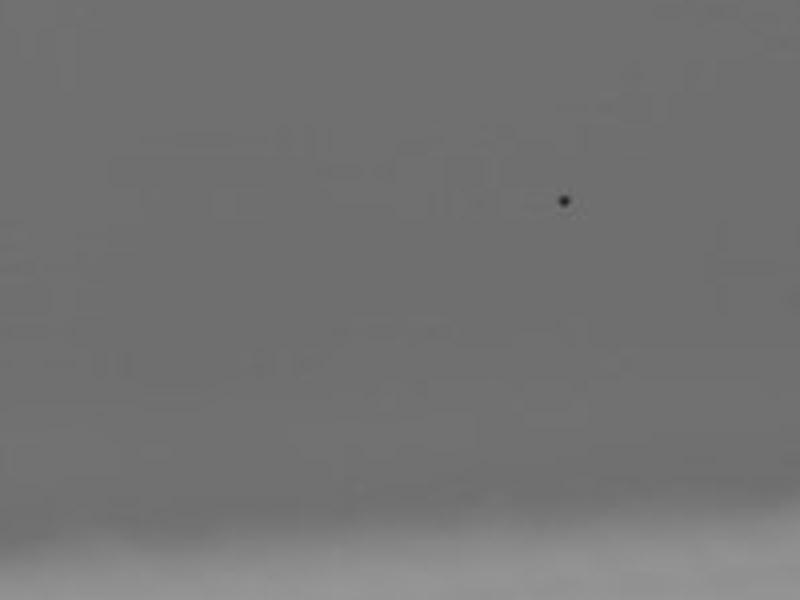defect: (550, 187, 575, 211)
